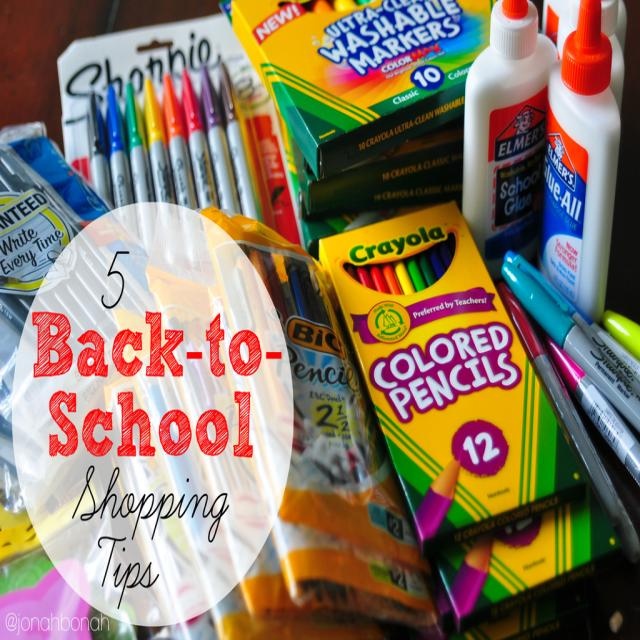pen: (488, 251, 640, 634), (0, 131, 162, 380), (85, 55, 267, 226)
